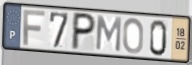0: (149, 18, 169, 57)
7: (48, 11, 70, 49)
F: (22, 8, 47, 47)
M: (94, 15, 123, 54)
O: (122, 16, 145, 55)
P: (70, 11, 98, 52)
